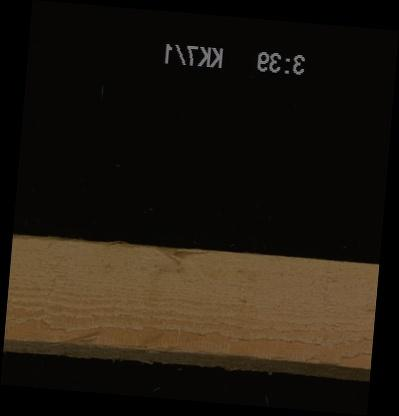split: (149, 245, 184, 263)
